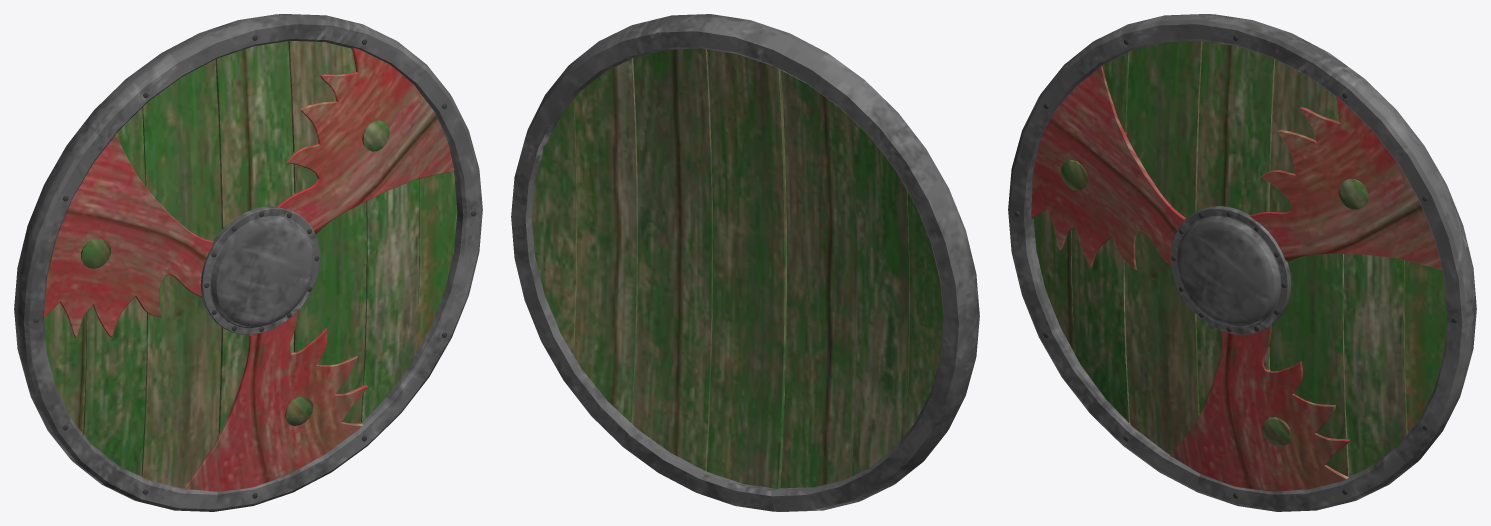
Rendered from val_shield.glb.
3 renders of one model, left to right at view 1: azimuth 30°, elevation 25°; view 2: azimuth 150°, elevation 25°; view 3: azimuth 330°, elevation 25°, orthographic.
Parts seen in each view (by area): view 1: KB3D_VAL_Shield_A_Main; view 2: KB3D_VAL_Shield_A_Main; view 3: KB3D_VAL_Shield_A_Main.
Part boxes in pixels (<box>): KB3D_VAL_Shield_A_Main: <box>14,14,482,511</box>; KB3D_VAL_Shield_A_Main: <box>511,14,979,511</box>; KB3D_VAL_Shield_A_Main: <box>1008,14,1476,511</box>.
Bounding box in the file's own units: 0.7925 × 0.7927 × 0.0876.
4 materials, 4 textured.
